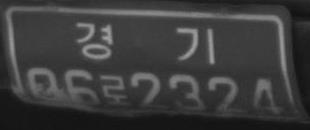0: (26, 66, 60, 103)
2: (206, 74, 245, 115), (131, 70, 167, 109)
3: (168, 72, 206, 112)
4: (250, 77, 284, 116)
6: (62, 67, 101, 107)
경기_D: (75, 21, 215, 65)
로: (101, 73, 131, 107)
